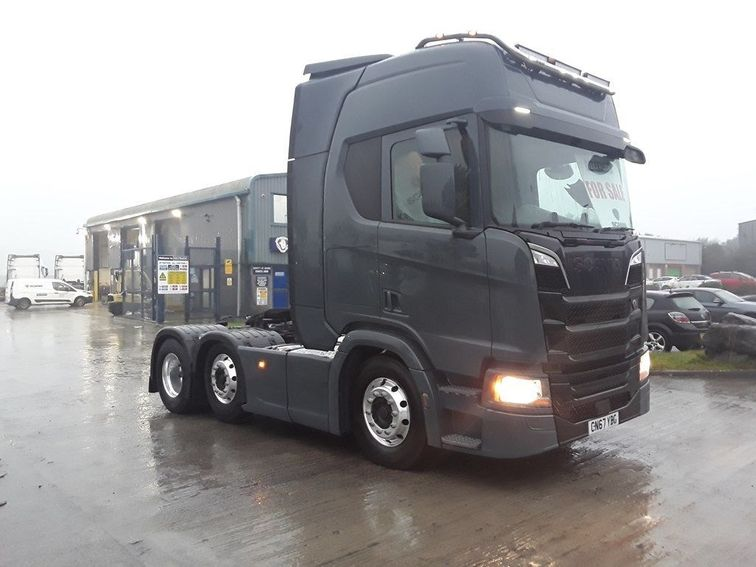Car: (643, 290, 713, 350), (7, 274, 93, 312)
Semi: (148, 32, 650, 467)
